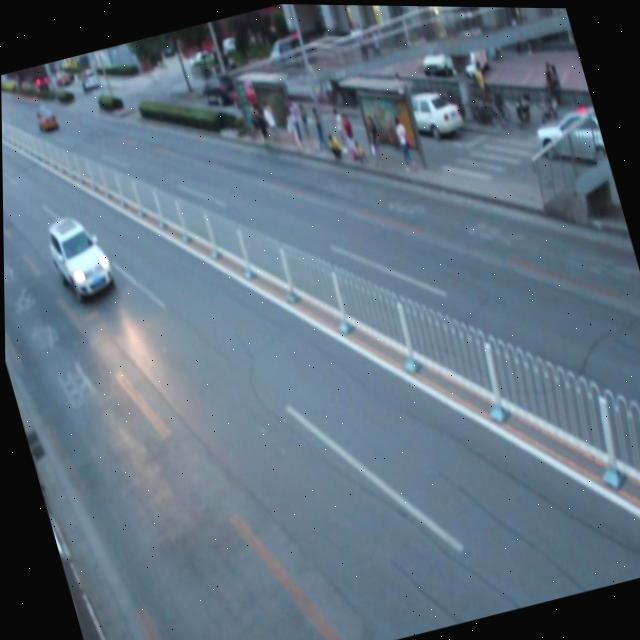car: (40, 208, 117, 305)
